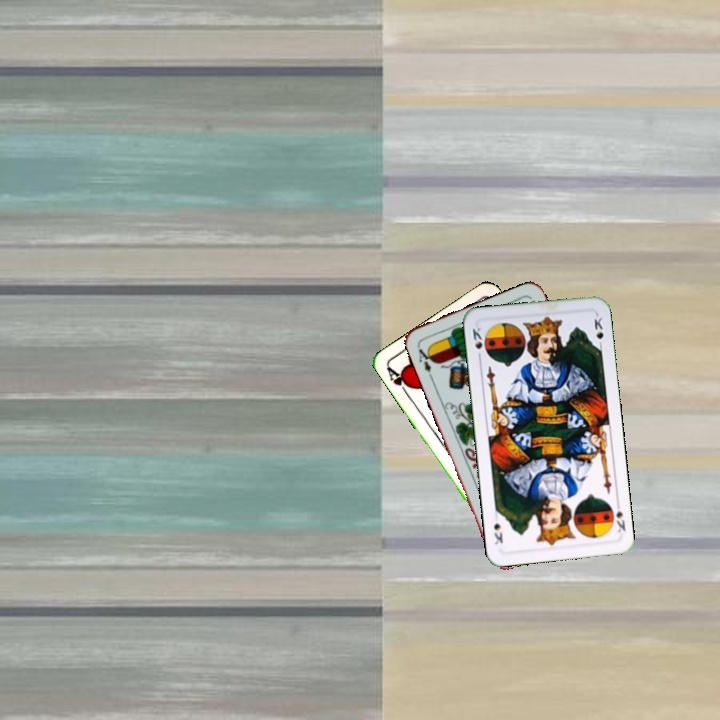EA: (413, 341, 437, 375)
HA: (382, 363, 414, 399)
SK: (468, 323, 485, 363), (612, 497, 628, 535)
